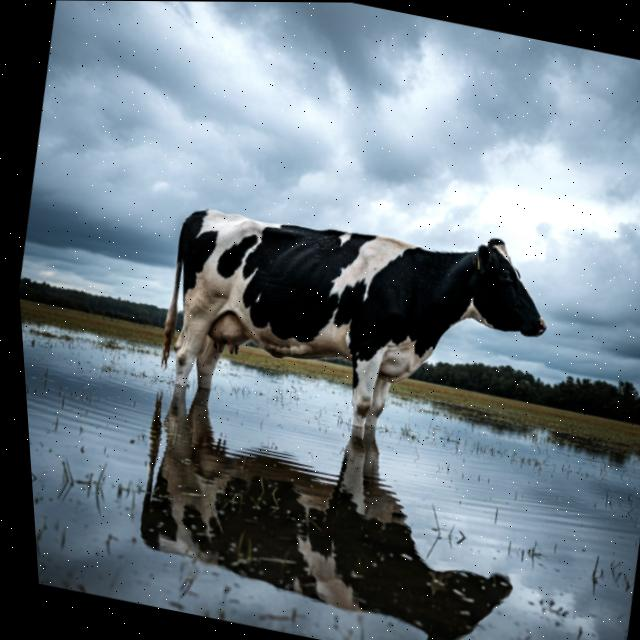cow: (115, 162, 583, 472)
